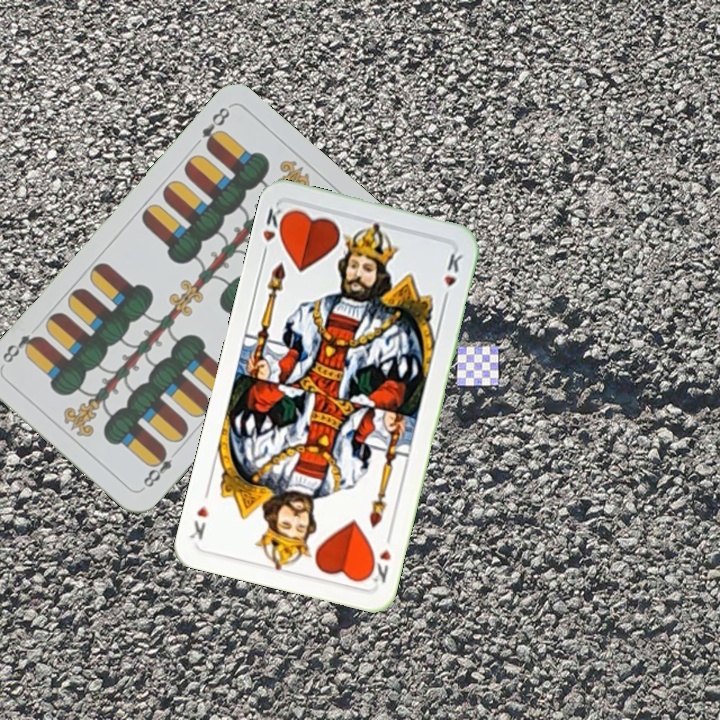E8: (197, 103, 233, 153), (138, 444, 175, 492)
HK: (258, 202, 291, 261), (369, 529, 394, 586)
